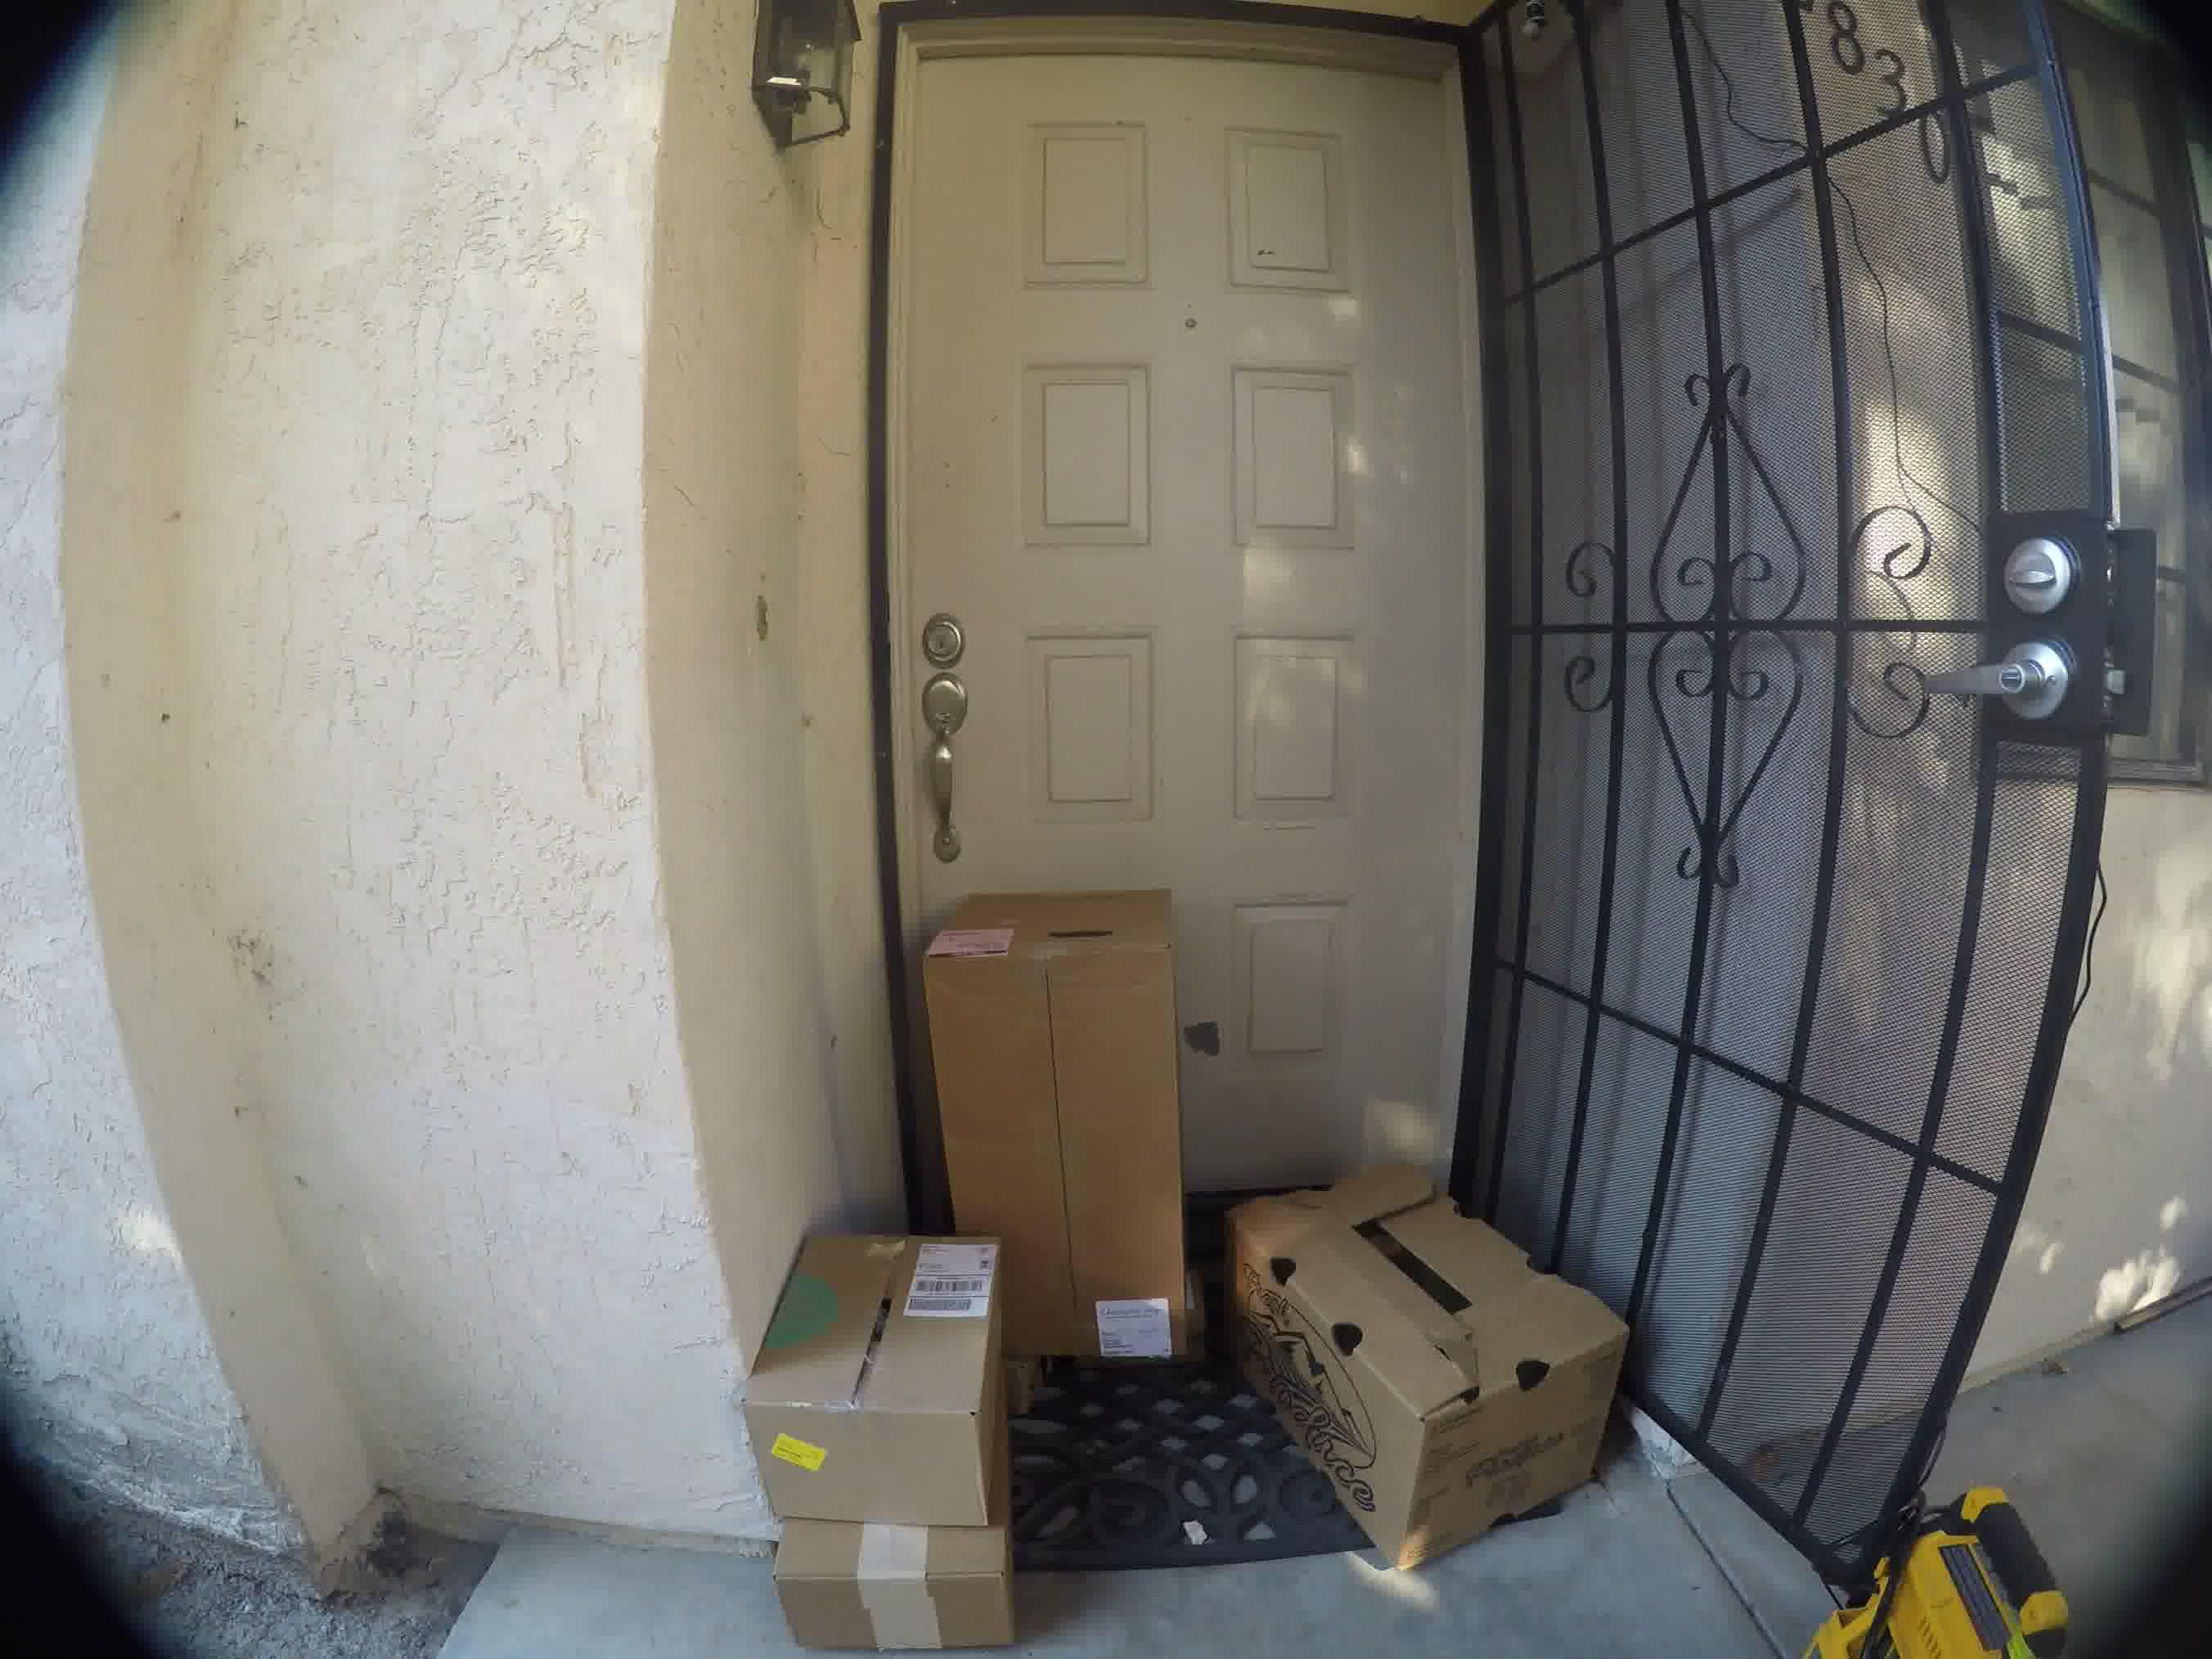box: (1223, 1173, 1642, 1528), (918, 889, 1197, 1270), (749, 1244, 1019, 1528), (756, 1525, 1052, 1636)
